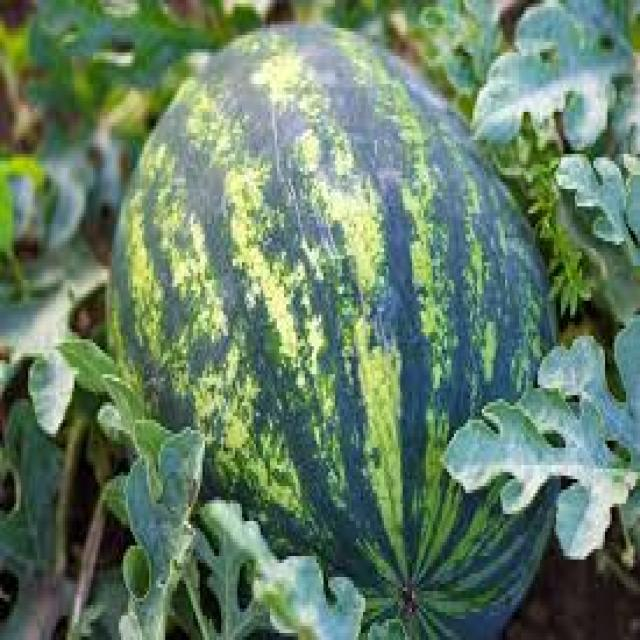Watermelon: (97, 43, 565, 631)
